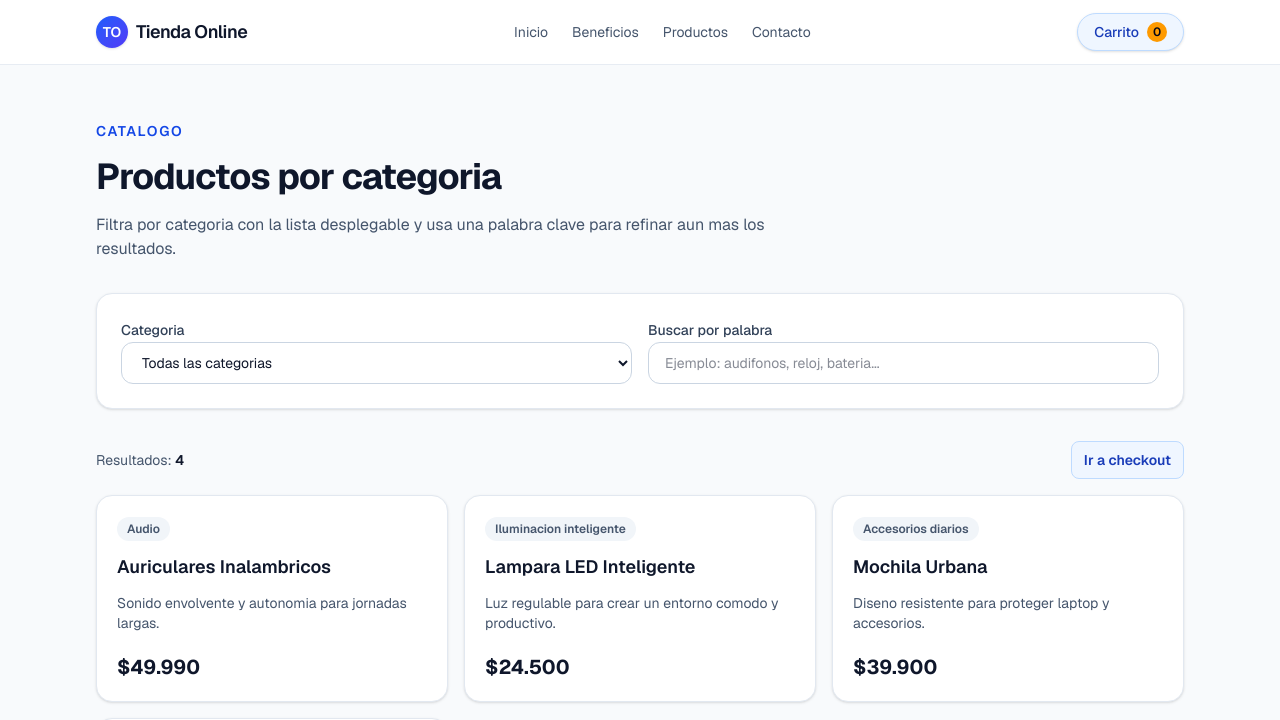
Scenario: ProductosPage › filtra productos por palabra clave
In the search field labelled "Buscar por palabra": (904, 363) x1=648 y1=342 x2=1159 y2=384, type "producto_inexistente_xyz"
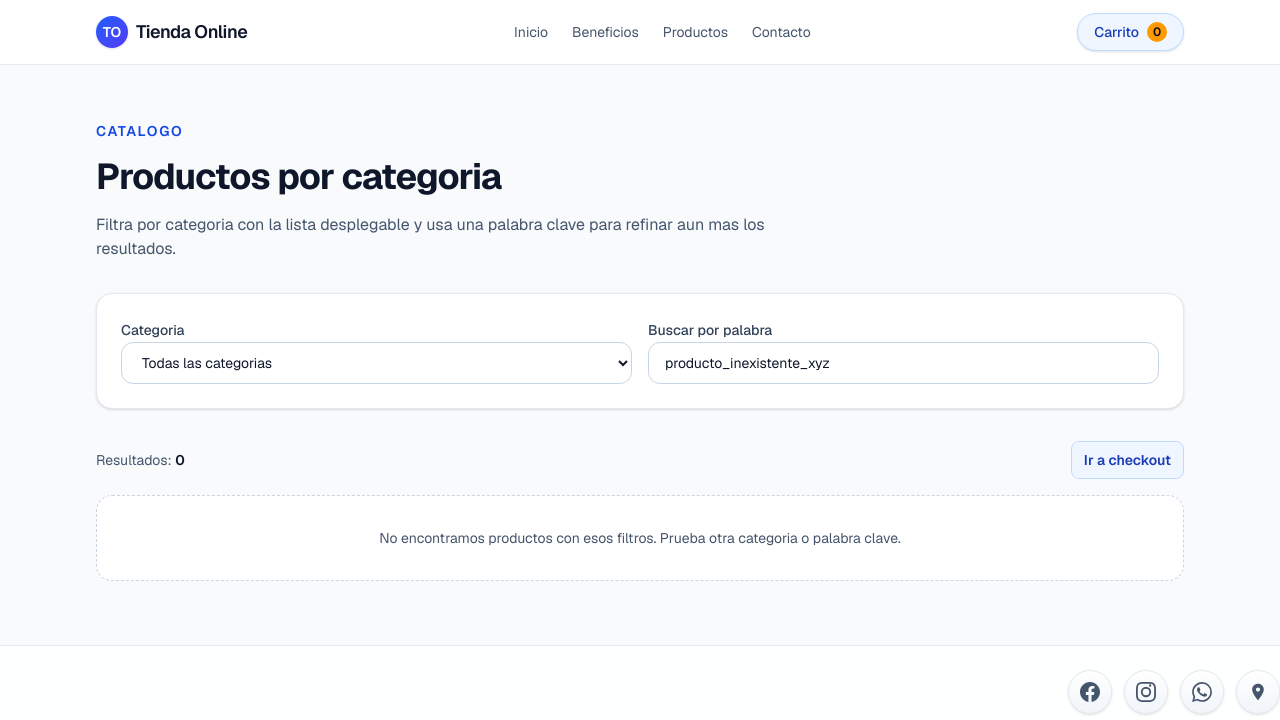
Check: the text "No encontramos productos con esos filtros" is shown, box x1=379 y1=529 x2=901 y2=547
